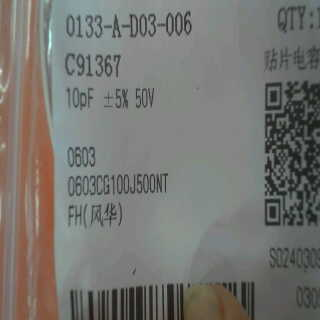10pF: (60, 79, 104, 114)
